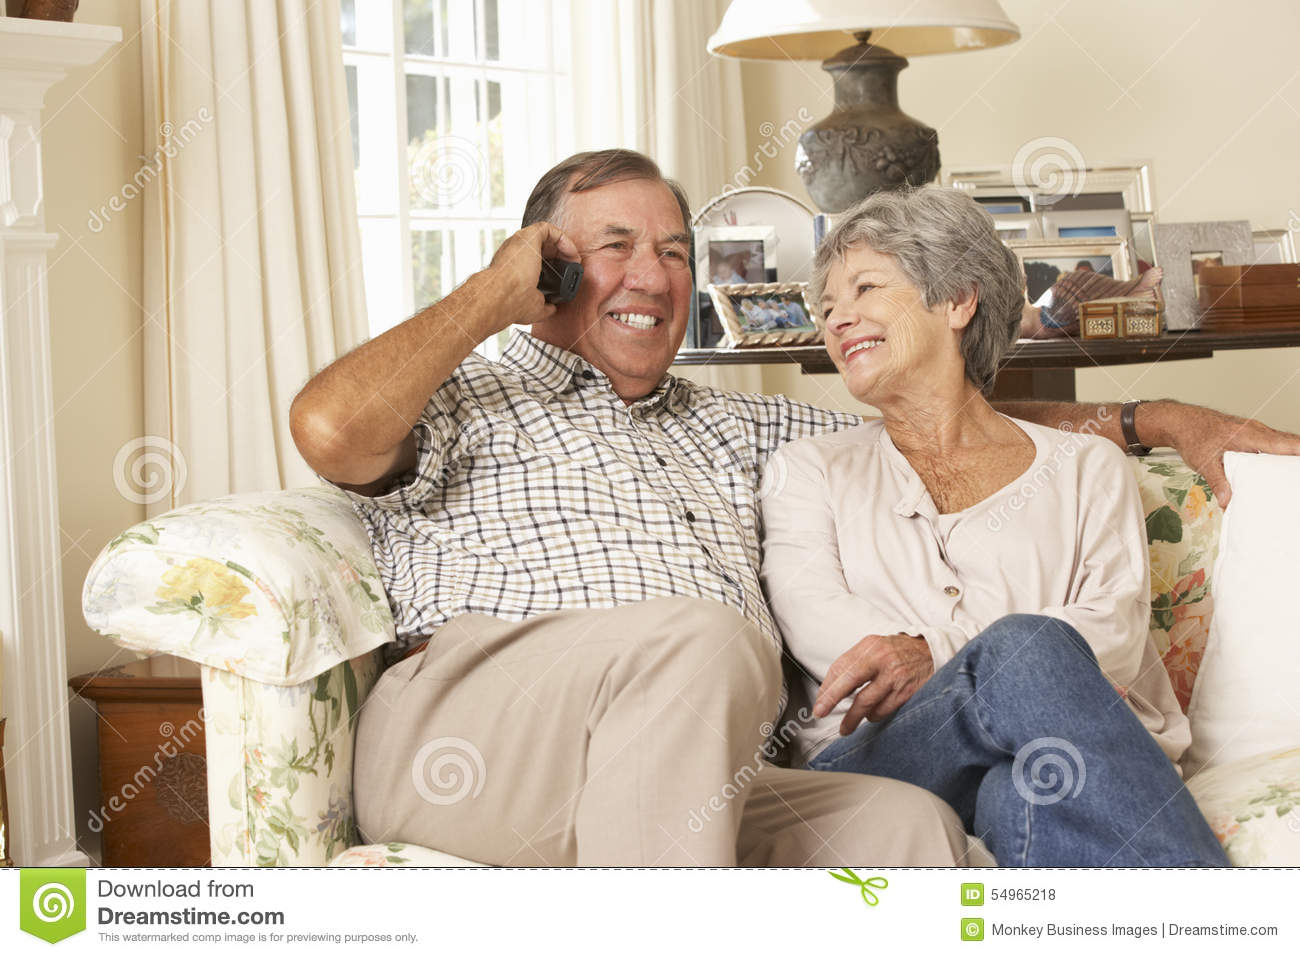talk: (486, 205, 692, 405)
